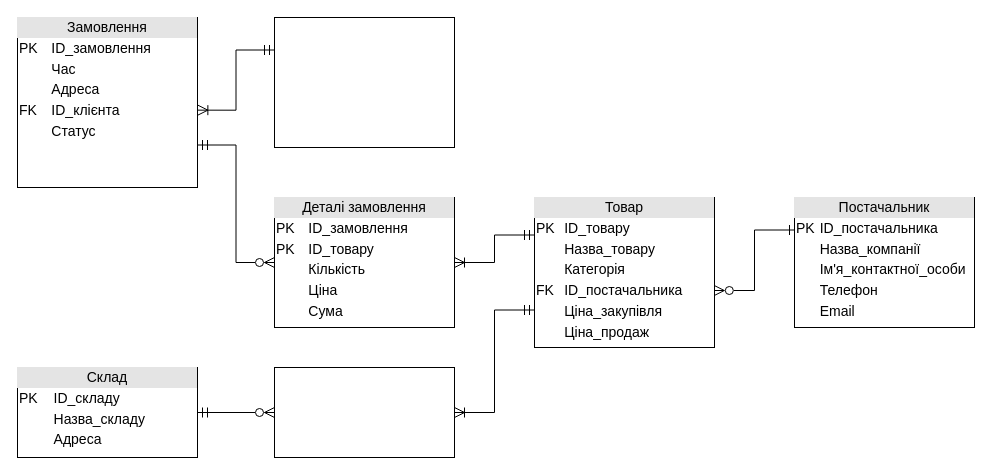
Some shapes in this 992 by 475 pixel diagram are drawn without their labels. The shapes that lost their labels are listed below. From the top down, each one's centre as x and y in pixels, then its label:
pixel 364 82: Клієнт PK ID_клієнта Ім'я Прізвище Телефон Email
pixel 364 412: Кількість товару PK ID_складу PK ID_товару Кількість
